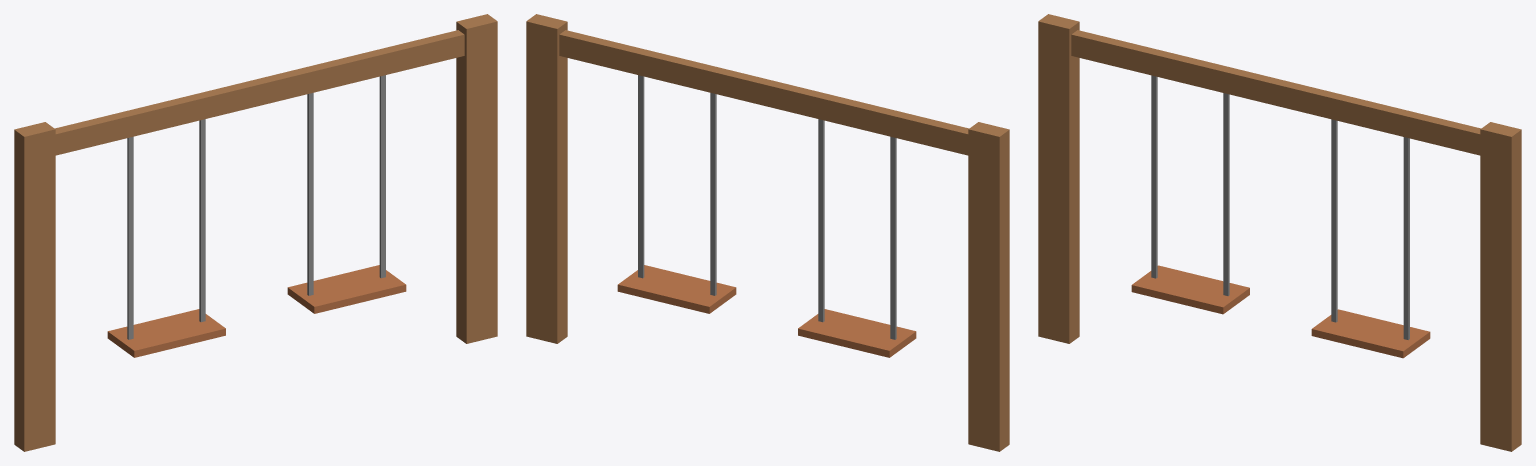
The model's file is swing.fbx.
3 views of the same model, side by side, from view 1: azimuth 30°, elevation 25°; view 2: azimuth 150°, elevation 25°; view 3: azimuth 330°, elevation 25° (orthographic).
Visible parts, largest first — view 1: качели; view 2: качели; view 3: качели.
Boxes of the visible parts, x1=… form: качели: x1=14, y1=14, x2=497, y2=451; качели: x1=526, y1=14, x2=1009, y2=451; качели: x1=1038, y1=14, x2=1521, y2=451.
Bounding box in the file's own units: 107 × 68.29 × 10.53.
